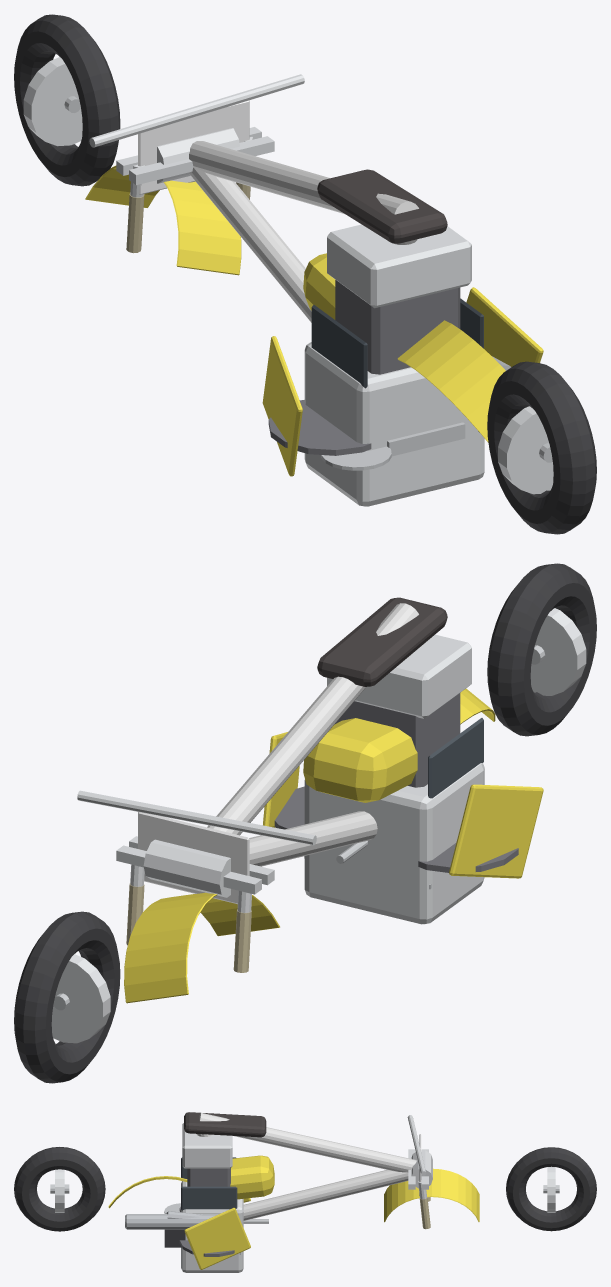
The picture shows the model from 3 angles, top to bottom: view 1: azimuth 30°, elevation 25°; view 2: azimuth 150°, elevation 25°; view 3: azimuth 270°, elevation 25°; orthographic projection. The views are drawn at different scales.
Visible parts, largest first — view 1: b_engine_case, b_rear_wheel_tire, b_front_wheel_tire, b_engine_head, b_engine_cyl, b_front_fender, b_rear_fender, b_seat, b_frame_spine, b_frame_down, b_front_wheel_rim, b_rear_wheel_rim (+13 smaller); view 2: b_engine_case, b_rear_wheel_tire, b_front_wheel_tire, b_front_fender, b_tank, b_shroud_-1, b_frame_spine, b_engine_head, b_seat, b_front_wheel_rim, b_front_plate, b_frame_down (+11 smaller); view 3: b_rear_wheel_tire, b_front_wheel_tire, b_frame_spine, b_frame_down, b_shroud_1, b_front_fender, b_engine_head, b_tank, b_seat, b_sideplate_1, b_engine_case, b_silencer (+9 smaller).
Part boxes in pixels (bbox=[...]): b_engine_case: bbox=[304, 342, 484, 506]; b_rear_wheel_tire: bbox=[487, 361, 596, 534]; b_front_wheel_tire: bbox=[14, 14, 120, 186]; b_engine_head: bbox=[327, 224, 471, 308]; b_engine_cyl: bbox=[335, 280, 460, 374]; b_front_fender: bbox=[85, 165, 241, 275]; b_rear_fender: bbox=[397, 320, 505, 442]; b_seat: bbox=[317, 169, 447, 243]; b_frame_spine: bbox=[189, 141, 418, 214]; b_frame_down: bbox=[189, 166, 311, 322]; b_front_wheel_rim: bbox=[23, 57, 82, 146]; b_rear_wheel_rim: bbox=[498, 406, 553, 494]; b_engine_case: bbox=[304, 763, 484, 924]; b_rear_wheel_tire: bbox=[487, 563, 596, 736]; b_front_wheel_tire: bbox=[14, 911, 120, 1083]; b_front_fender: bbox=[124, 892, 279, 1003]; b_tank: bbox=[303, 718, 417, 802]; b_shroud_-1: bbox=[449, 784, 543, 878]; b_frame_spine: bbox=[207, 603, 418, 835]; b_engine_head: bbox=[327, 634, 471, 718]; b_seat: bbox=[317, 597, 447, 686]; b_front_wheel_rim: bbox=[51, 954, 110, 1043]; b_front_plate: bbox=[138, 812, 249, 904]; b_frame_down: bbox=[249, 811, 377, 866]; b_rear_wheel_tire: bbox=[14, 1147, 105, 1231]; b_front_wheel_tire: bbox=[506, 1147, 596, 1231]; b_frame_spine: bbox=[199, 1112, 416, 1172]; b_frame_down: bbox=[243, 1170, 408, 1220]; b_shroud_1: bbox=[184, 1207, 250, 1269]; b_front_fender: bbox=[384, 1168, 479, 1222]; b_engine_head: bbox=[182, 1123, 232, 1168]; b_tank: bbox=[230, 1155, 274, 1199]; b_seat: bbox=[184, 1112, 266, 1137]; b_sideplate_1: bbox=[181, 1186, 237, 1210]; b_engine_case: bbox=[181, 1181, 243, 1272]; b_silencer: bbox=[125, 1214, 218, 1229].
Size of the model in its own units: 0.8911 by 0.9716 by 3.53.
